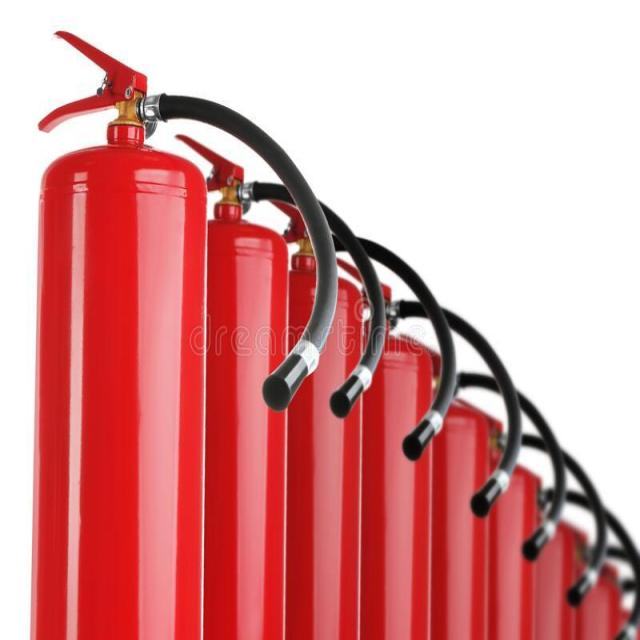fire_extinguisher: (22, 25, 339, 639), (150, 129, 387, 639), (243, 179, 461, 639), (310, 241, 528, 639)
